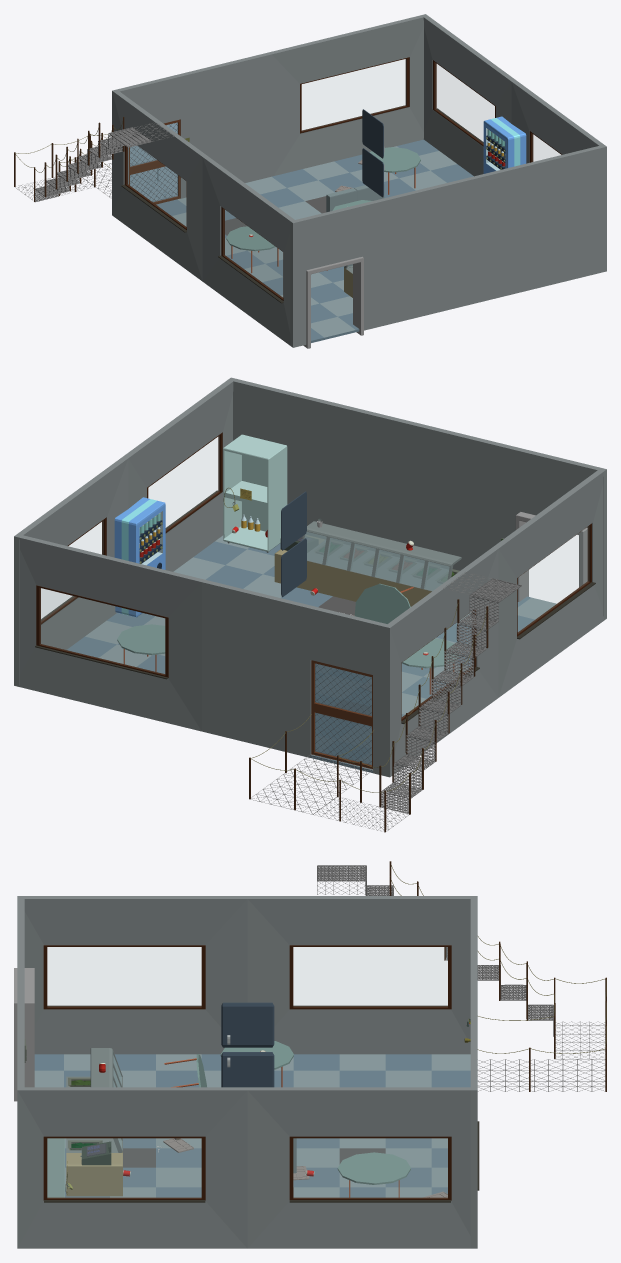
Rendered from Piso4.fbx.
3 views of the same model, one above another, from view 1: azimuth 30°, elevation 25°; view 2: azimuth 150°, elevation 25°; view 3: azimuth 270°, elevation 25° (orthographic). The views are drawn at different scales.
Parts seen in each view (by area): view 1: Cube.079, Cube.078, Cube.081, Cube.077, Cube.090, Cube.102, Cube.104, Cube.103, Cube.108, Cube.092, Maquina, Plane.030 (+4 smaller); view 2: Cube.078, Cube.079, Cube.081, Cube.090, Cube.077, Cube.104, Cube.108, Cube.102, Cube.133, Cube.093, Cube.103, Plane.034 (+11 smaller); view 3: Cube.090, Cube.081, Cube.077, Cube.102, Cube.103, Cube.092, Cube.133, Cube.079, Cube.078, Cube.108, Cylinder.024, Plane.031 (+4 smaller).
Part boxes in pixels (x1,y1,x2,y2): Cube.079: (290, 144, 606, 348); Cube.078: (117, 14, 427, 198); Cube.081: (112, 89, 297, 345); Cube.077: (156, 139, 473, 342); Cube.090: (423, 16, 606, 270); Cube.102: (124, 145, 283, 300); Cube.104: (300, 57, 409, 133); Cube.103: (433, 60, 561, 162); Cube.108: (35, 127, 152, 202); Cube.092: (362, 109, 384, 197); Maquina: (483, 116, 526, 173); Plane.030: (130, 166, 177, 202); Cube.078: (14, 534, 389, 775); Cube.079: (228, 377, 606, 620); Cube.081: (384, 470, 603, 777); Cube.090: (14, 378, 233, 686); Cube.077: (67, 535, 556, 772); Cube.104: (36, 585, 168, 677); Cube.108: (381, 578, 521, 814); Cube.102: (401, 523, 591, 720); Cube.133: (274, 521, 461, 606); Cube.093: (223, 434, 287, 551); Cube.103: (41, 432, 222, 624); Plane.034: (304, 532, 449, 590); Cube.090: (17, 1087, 470, 1248); Cube.081: (24, 896, 477, 1054); Cube.077: (34, 1054, 470, 1197); Cube.102: (43, 945, 451, 1009); Cube.103: (43, 1136, 451, 1200); Cube.092: (221, 1002, 274, 1087); Cube.133: (66, 1048, 122, 1196); Cube.079: (14, 896, 34, 1101); Cube.078: (470, 899, 479, 1248); Cube.108: (317, 865, 553, 1036); Cylinder.024: (337, 1152, 410, 1184); Plane.031: (477, 1059, 605, 1091).
Bounding box in the file's own units: 2312 × 1002 × 2579.
Materials: 114 (8 with a texture image).
